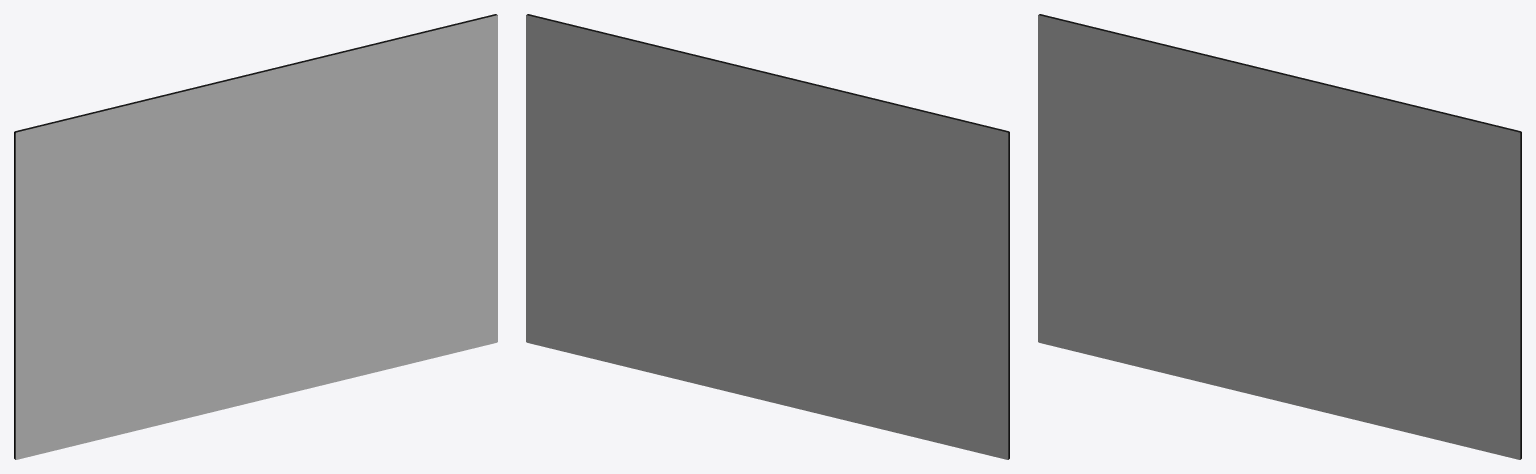
Rendered from SM_Stove.obj.
The picture shows the model from 3 angles, left to right: view 1: azimuth 30°, elevation 25°; view 2: azimuth 150°, elevation 25°; view 3: azimuth 330°, elevation 25°; orthographic projection.
Visible parts, largest first — view 1: SM_Stove; view 2: SM_Stove; view 3: SM_Stove.
Boxes of the visible parts, bbox=[...] form: SM_Stove: bbox=[14, 14, 497, 459]; SM_Stove: bbox=[526, 14, 1009, 459]; SM_Stove: bbox=[1038, 14, 1521, 459].
Bounding box in the file's own units: 0.7878 × 0.5113 × 0.00475.
3 materials, 1 textured.
